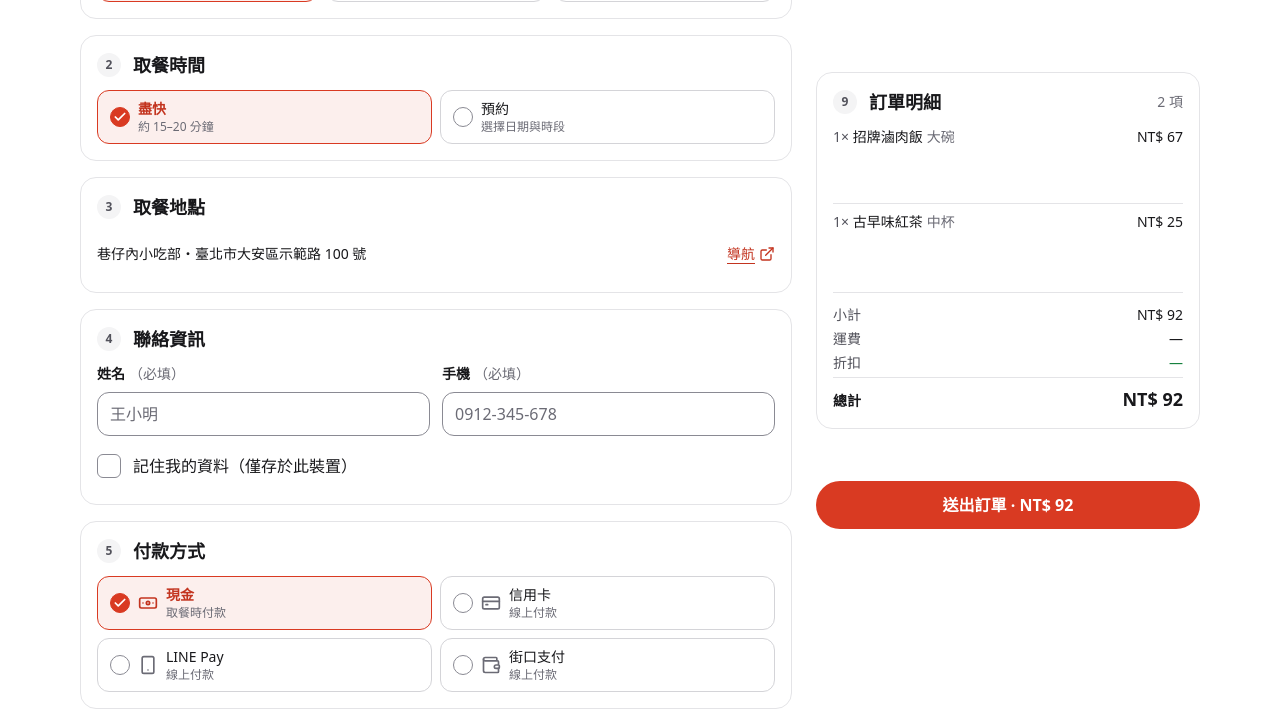
Test: 表單驗證（03 §8.3） › 手機輸入即時插入連字號
(page scrolled)
Step 1. Type "0912345678" into the field labelled "手機（必填）" → (608, 414), box left=442, top=392, right=775, bottom=436
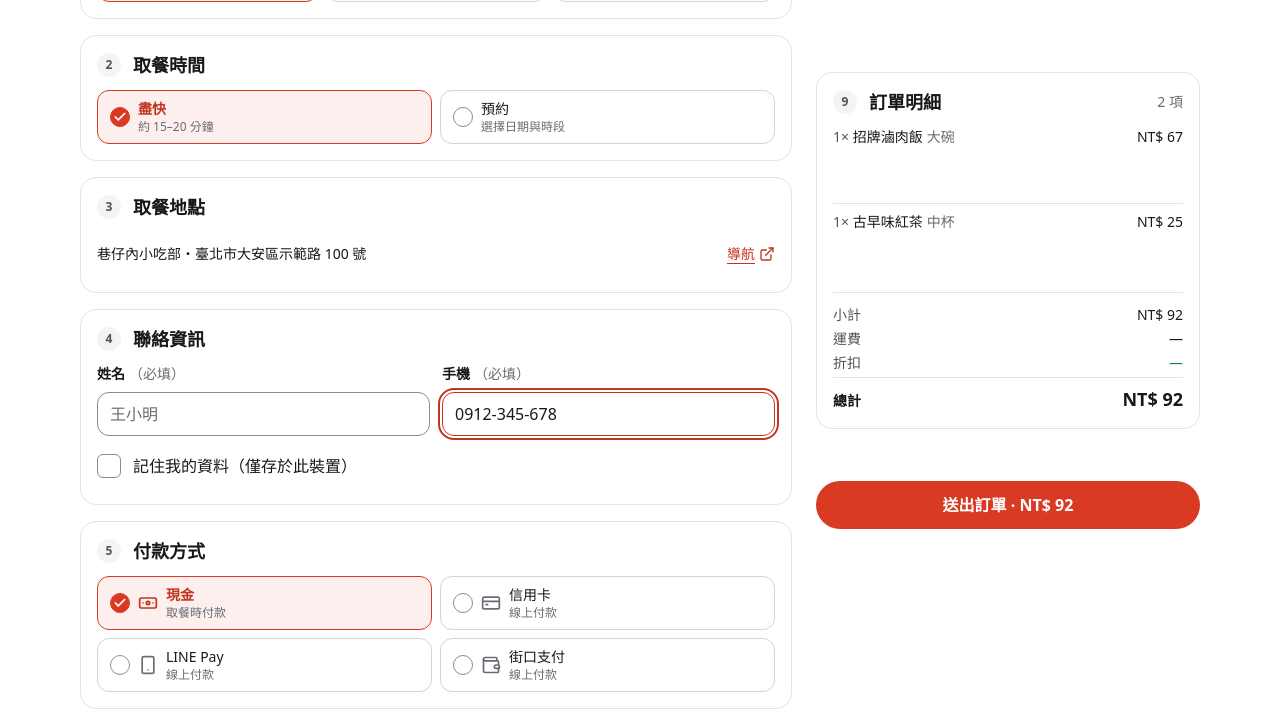
Check: the field labelled "手機（必填）" holds "0912-345-678", box left=442, top=392, right=775, bottom=436
